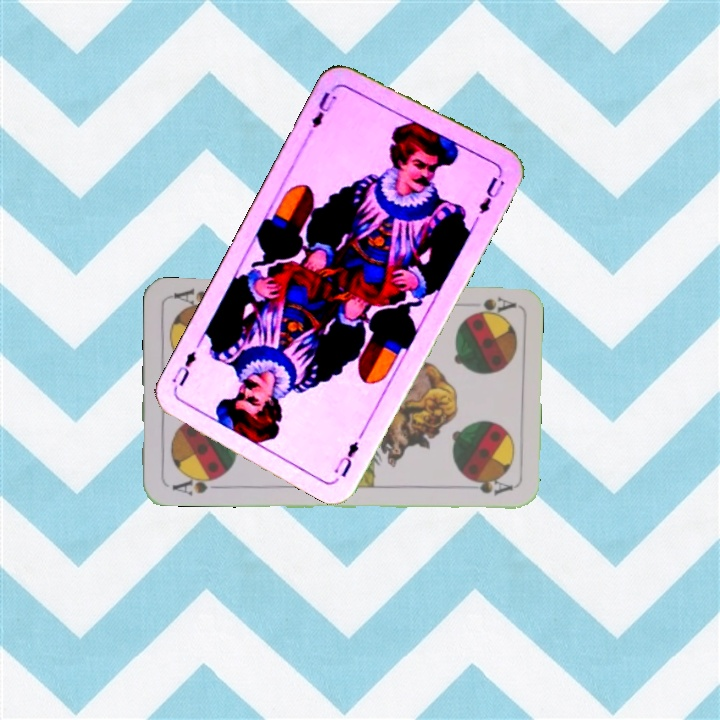EU: (304, 82, 340, 137), (330, 437, 361, 480)
SA: (168, 471, 224, 498), (465, 292, 517, 317)
